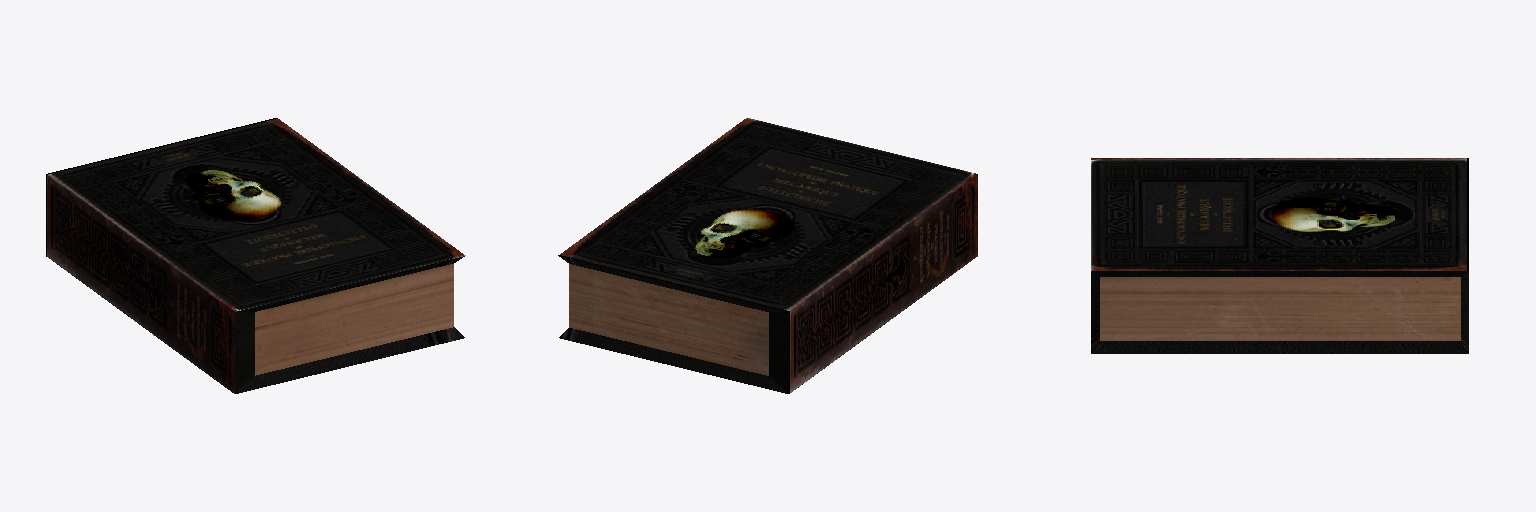
3 views of the same model, side by side, from view 1: azimuth 30°, elevation 25°; view 2: azimuth 150°, elevation 25°; view 3: azimuth 270°, elevation 25° (orthographic).
Visible parts, largest first — view 1: Box01; view 2: Box01; view 3: Box01.
Part boxes in pixels (left/top/right/bottom): Box01: left=46, top=118, right=465, bottom=393; Box01: left=558, top=118, right=977, bottom=393; Box01: left=1091, top=158, right=1468, bottom=353.
Size of the model in its own units: 16.01 by 5.45 by 22.65.
1 materials, 1 textured.